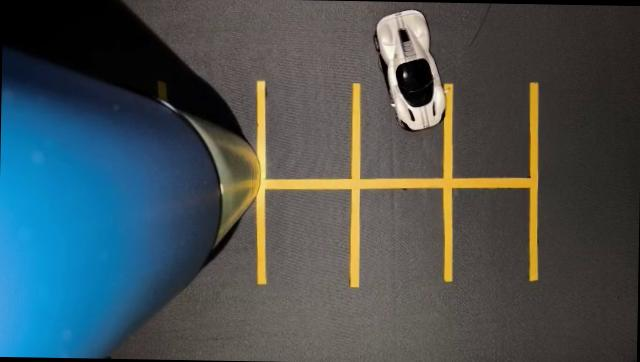toy_car: (342, 0, 472, 140)
